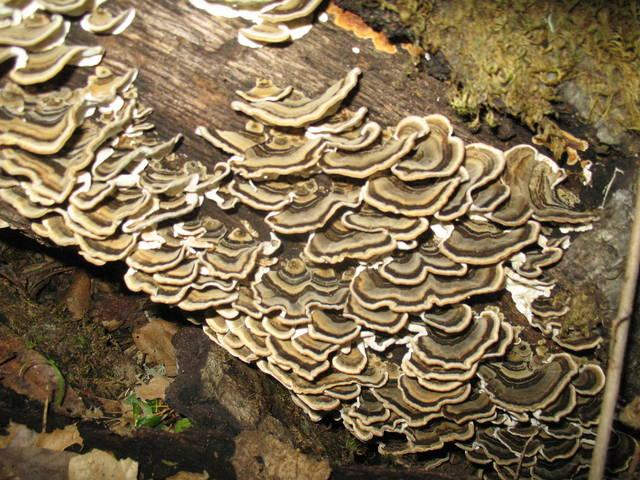poisonous_mushroom: (1, 0, 631, 475)
